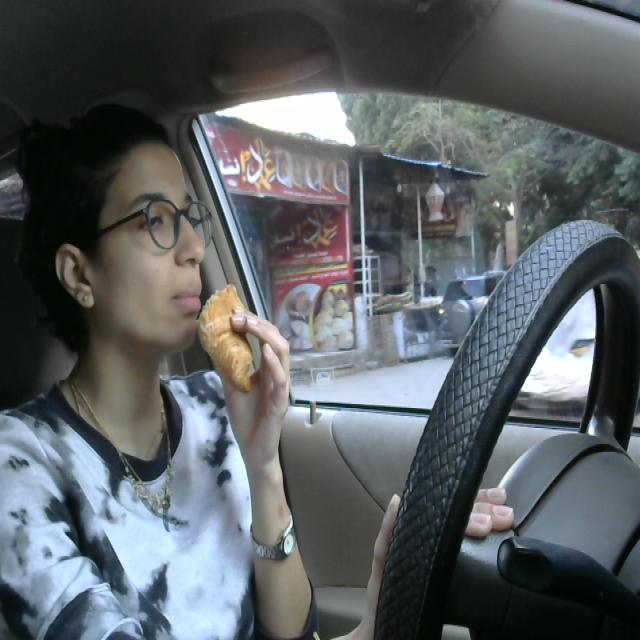eating: (186, 272, 265, 408)
